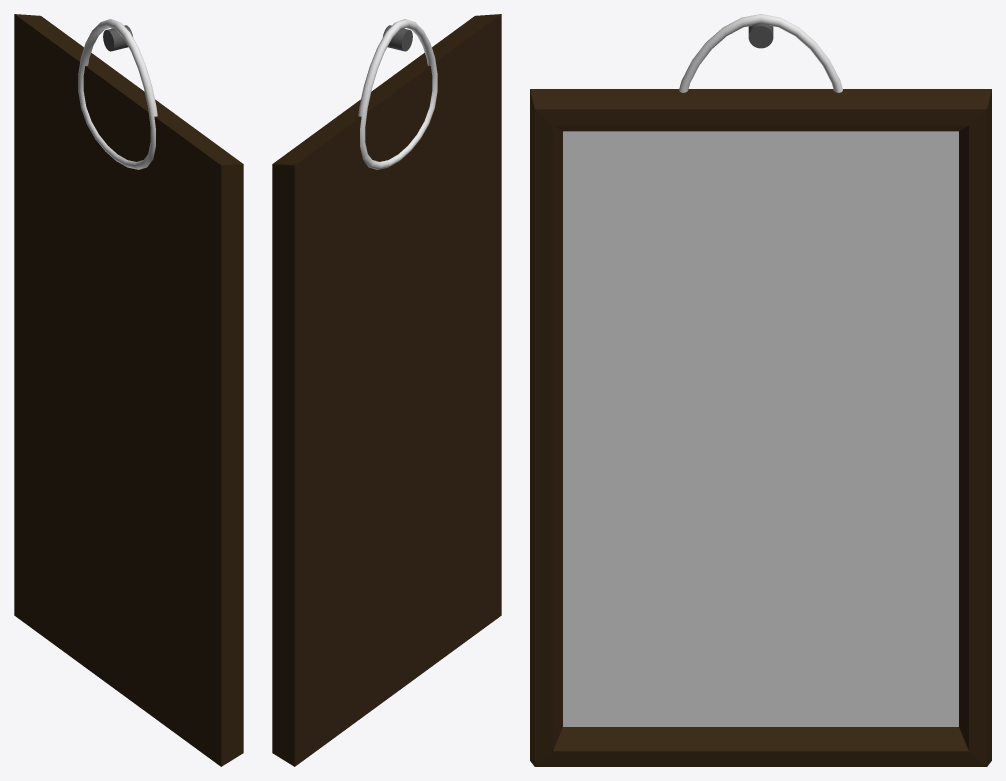
File: family.fbx
3 views of the same model, side by side, from view 1: azimuth 30°, elevation 25°; view 2: azimuth 150°, elevation 25°; view 3: azimuth 270°, elevation 25° (orthographic). The views are drawn at different scales.
Parts seen in each view (by area): view 1: FM.MS.family; view 2: FM.MS.family; view 3: FM.MS.family.
Part boxes in pixels (box(x1,y1,x2,y2)): FM.MS.family: box(14, 14, 243, 766); FM.MS.family: box(272, 14, 501, 766); FM.MS.family: box(530, 14, 991, 766).
Size of the model in its own units: 25.74 by 477 by 268.
